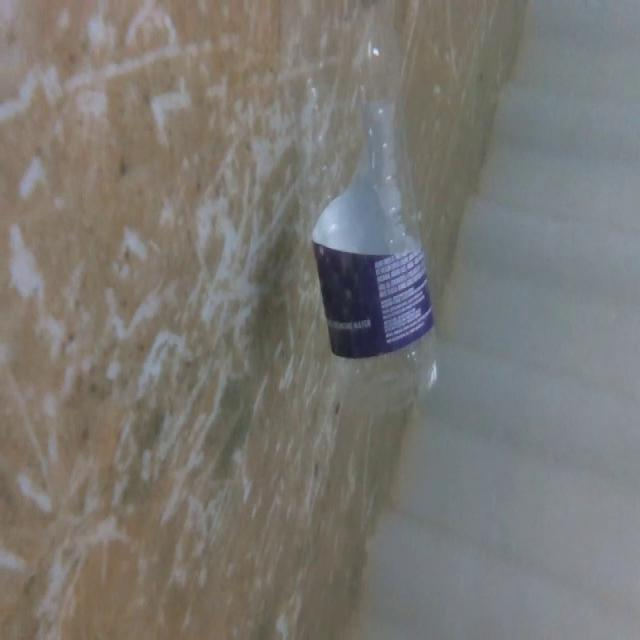plastic bottle: (248, 0, 445, 410)
